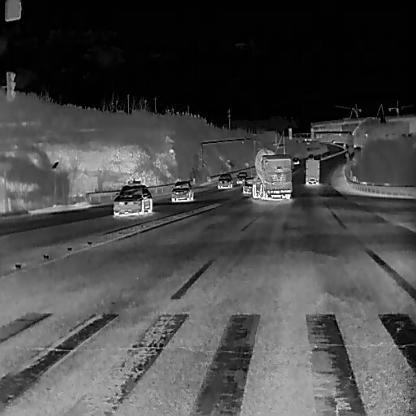car: (250, 145, 293, 200), (112, 182, 153, 217), (170, 179, 194, 202), (303, 159, 319, 186), (217, 172, 233, 189), (241, 177, 254, 194), (235, 171, 248, 184), (291, 156, 299, 164), (307, 153, 313, 159), (352, 141, 356, 148), (325, 151, 330, 156), (331, 139, 335, 143), (342, 142, 345, 147)
